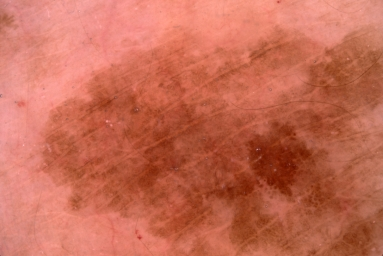seborrheic keratosis: (39, 22, 380, 248)
